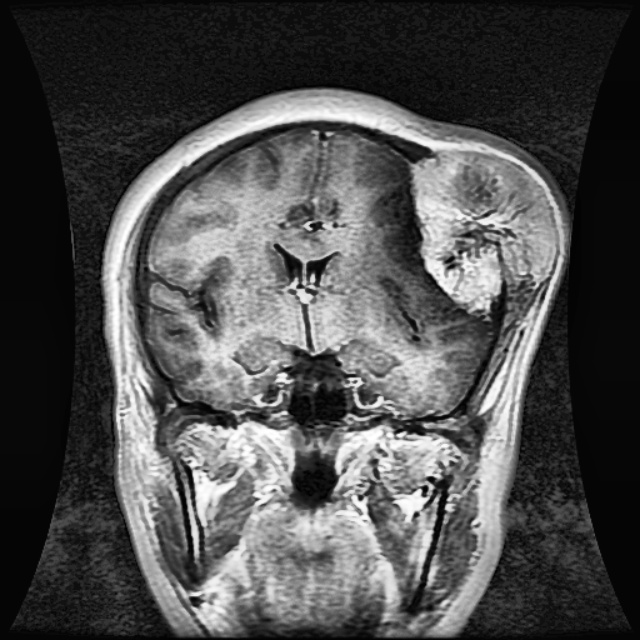Glioma: (410, 149, 558, 310)
